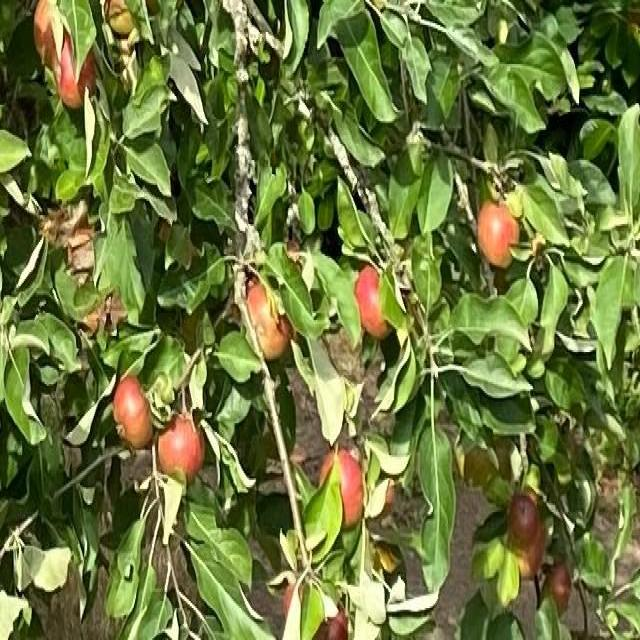Rotten Apple: (246, 283, 291, 357), (158, 412, 204, 480), (321, 454, 364, 526), (115, 375, 154, 446), (57, 36, 95, 103), (479, 203, 519, 265), (356, 270, 391, 338), (36, 0, 65, 69), (513, 523, 545, 576), (314, 601, 349, 640), (511, 496, 537, 548), (544, 564, 571, 612), (106, 0, 136, 34)
